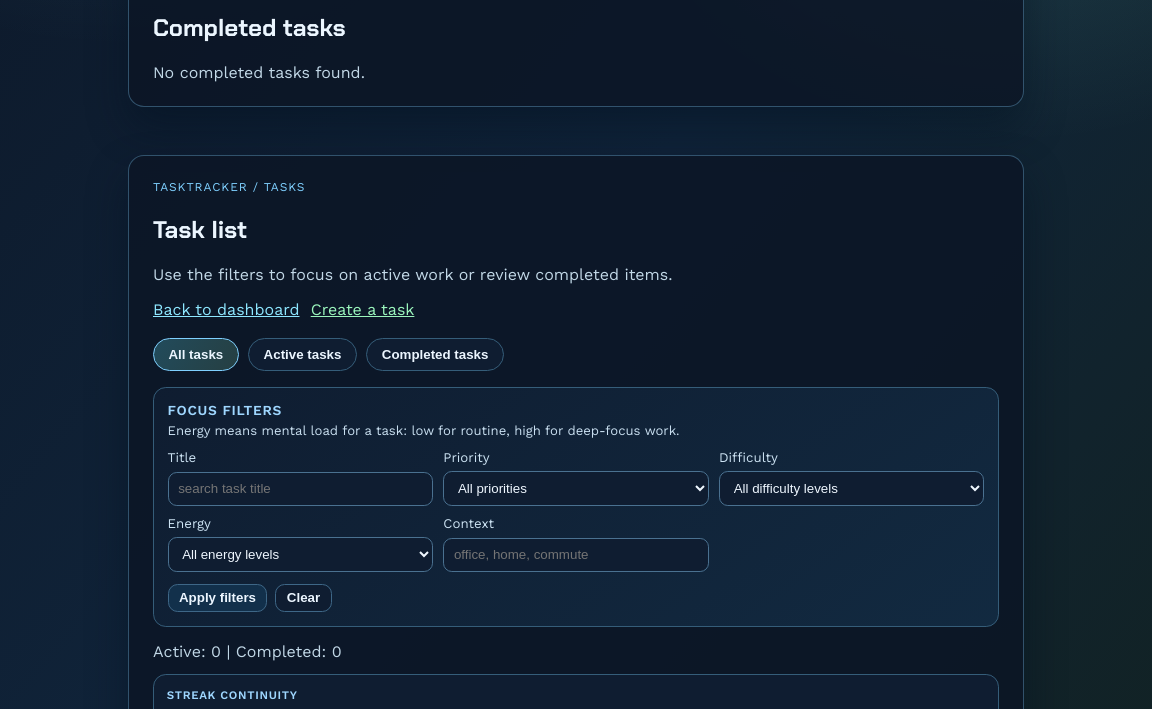
TaskListComponent › shows an action-oriented empty state when no tasks are returned
The width and height of the screenshot is (1152, 709).
(page scrolled)
Click the button with aria-label "Show active tasks": point(302, 354) [248, 338, 357, 371]
(page scrolled)
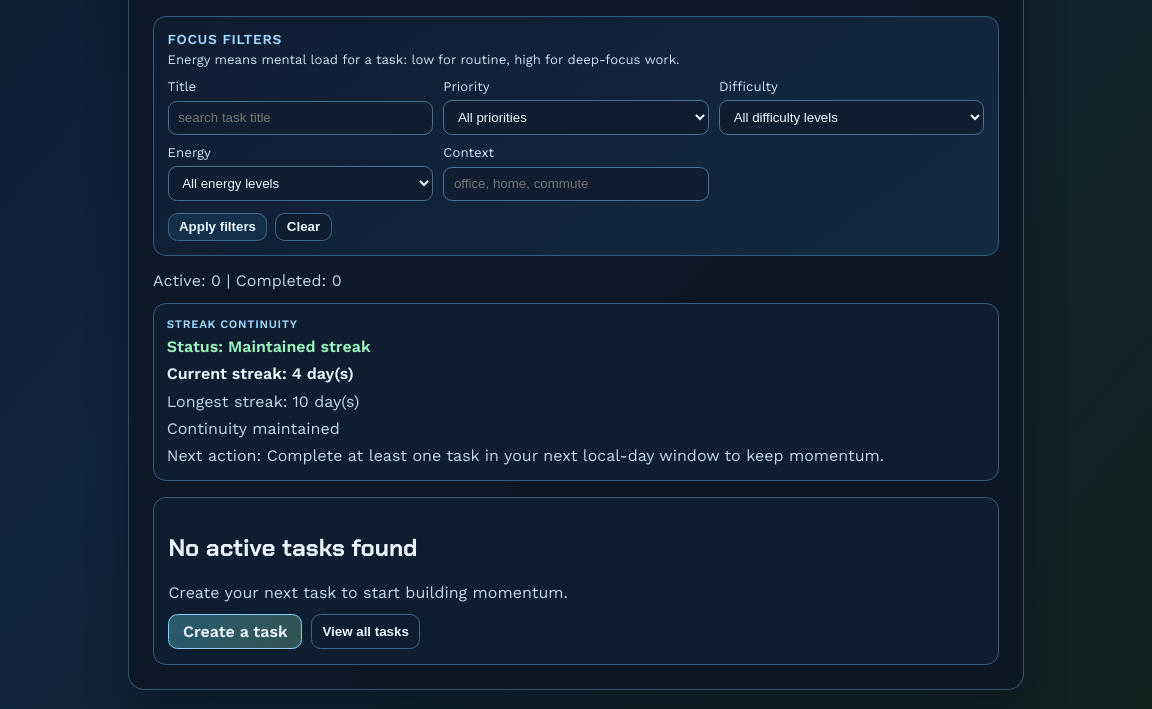
Check: the heading "No active tasks found" is shown, box [168, 532, 418, 563]
Check: the button with class "cancel-button" reads "View all tasks", box [311, 614, 420, 650]
